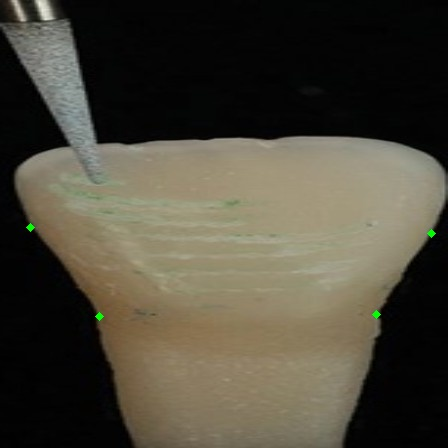coin_1: (376, 314, 396, 334)
coin_2: (431, 233, 448, 253)
coin_3: (99, 316, 119, 336)
coin_4: (30, 227, 50, 247)
